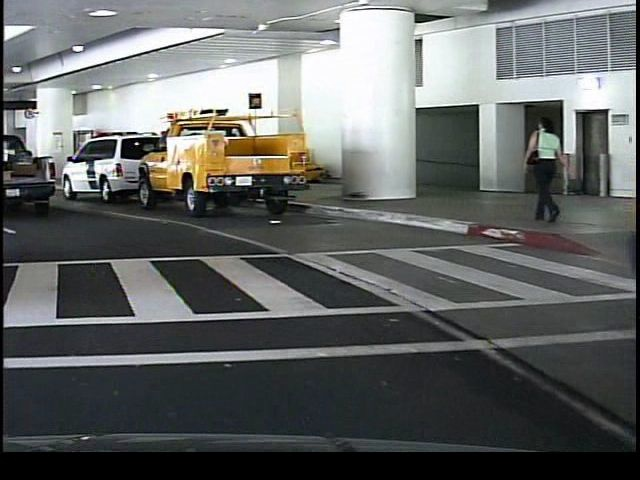person: (516, 113, 566, 227)
